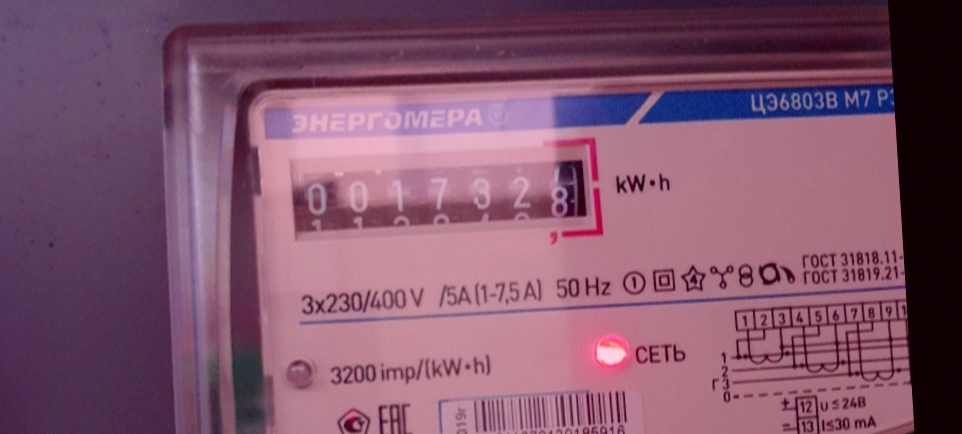0: (305, 178, 329, 216), (347, 178, 369, 213)
1: (390, 175, 407, 212)
2: (508, 173, 532, 210)
3: (469, 174, 493, 211)
7: (426, 173, 452, 211)
8: (547, 182, 569, 218)
screen: (279, 137, 607, 257)
